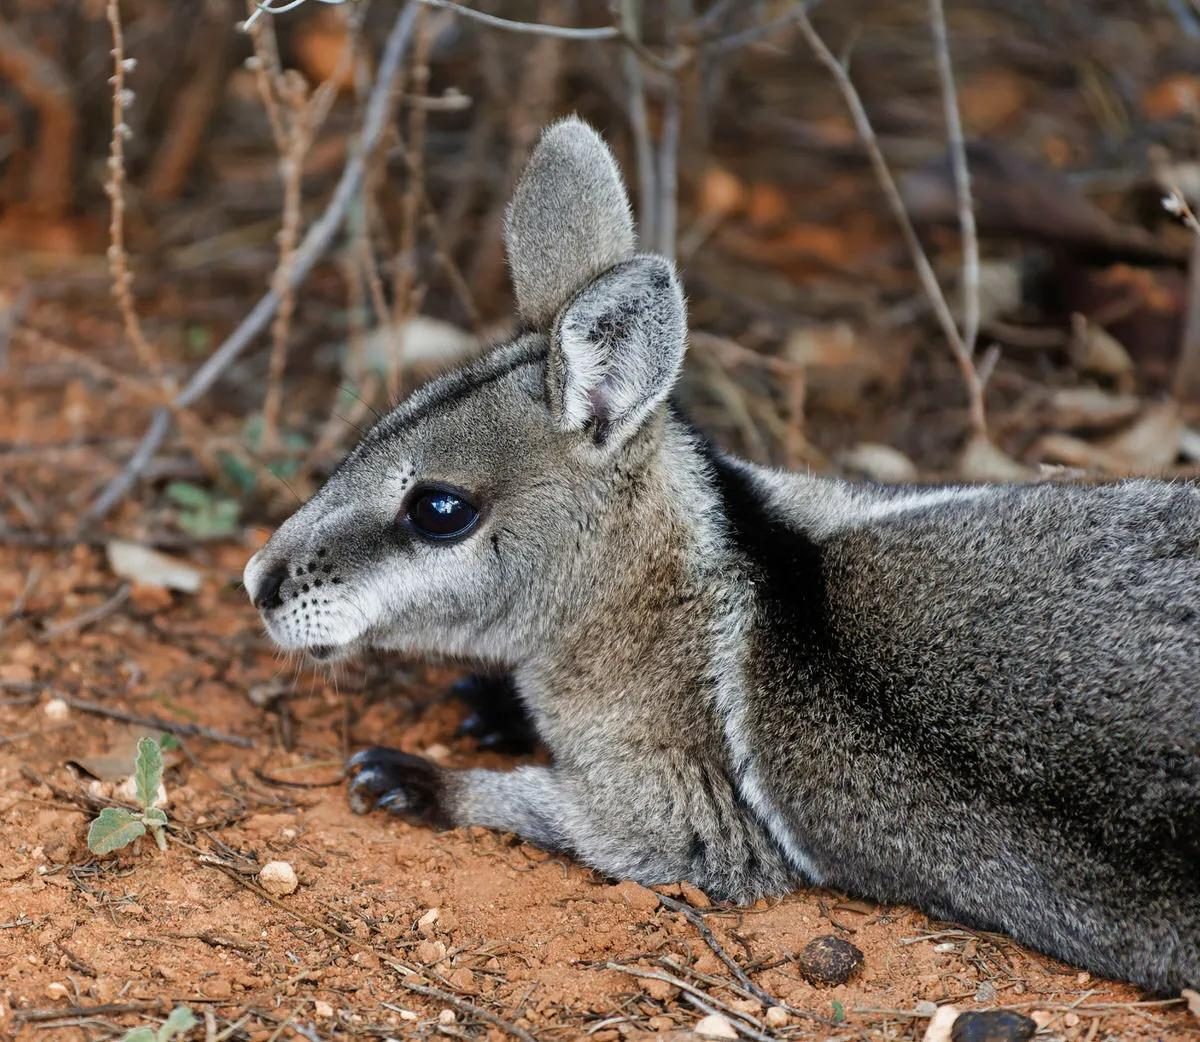Bridled-nail-tail wallaby: (238, 114, 1200, 1008)
